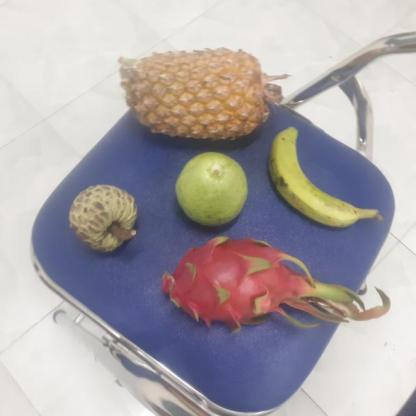annona: (66, 185, 136, 254)
banana: (263, 127, 362, 228)
guava: (173, 151, 249, 229)
pineapple: (123, 49, 268, 147)
pitaya: (155, 238, 308, 326)
